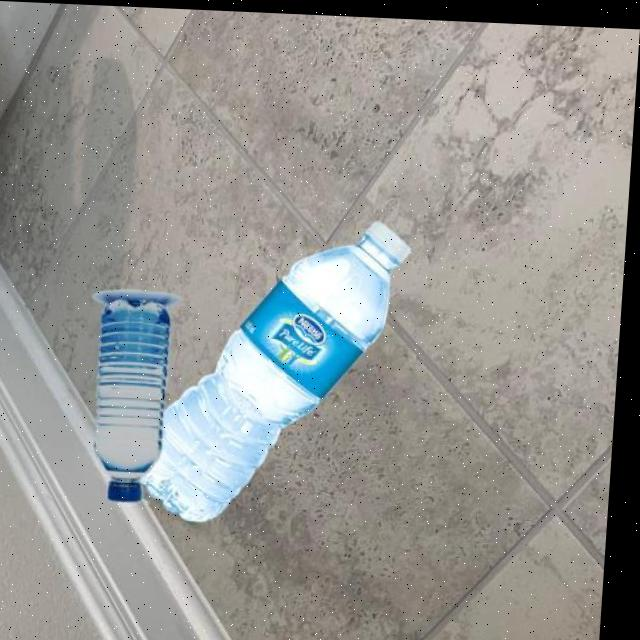bottle: (146, 209, 417, 528), (84, 285, 186, 505)
